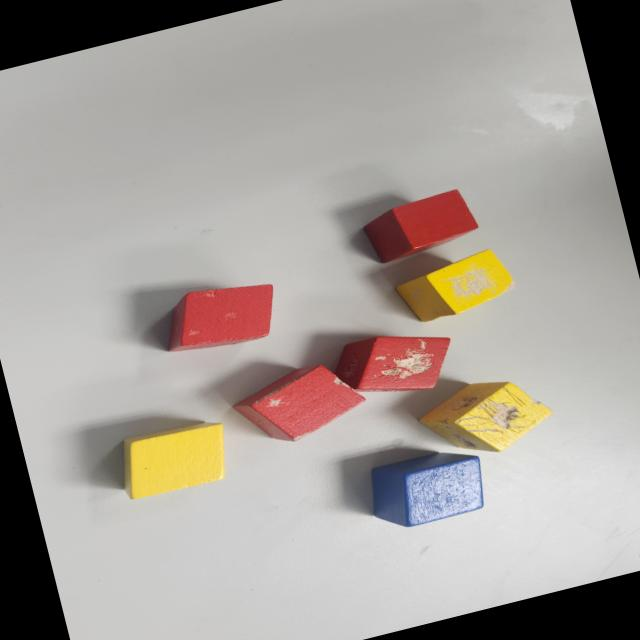blue: (362, 442, 492, 535)
broken: (226, 354, 371, 454), (414, 366, 556, 467), (330, 318, 461, 411), (156, 271, 286, 361), (389, 242, 522, 328)
red: (358, 186, 481, 266)
yellow: (112, 414, 237, 503)
